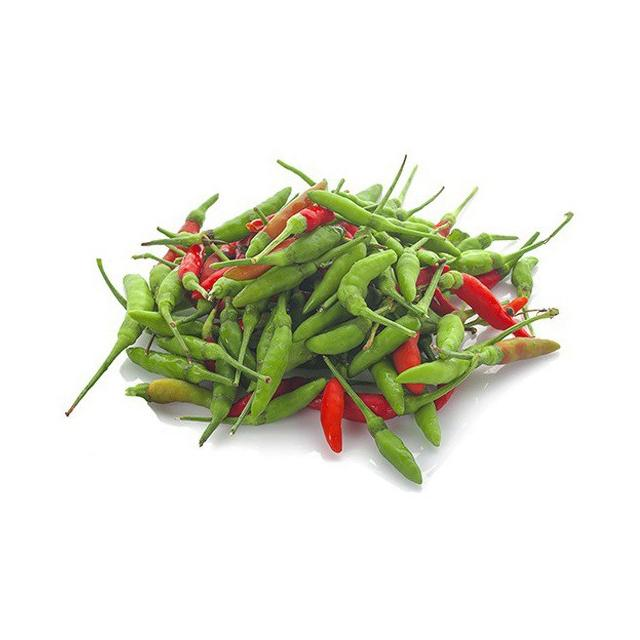chili_pepper: (337, 250, 414, 337), (250, 292, 293, 420), (308, 190, 414, 232), (233, 262, 317, 308), (260, 225, 345, 266), (374, 426, 422, 484), (307, 318, 372, 356), (397, 358, 471, 386)
